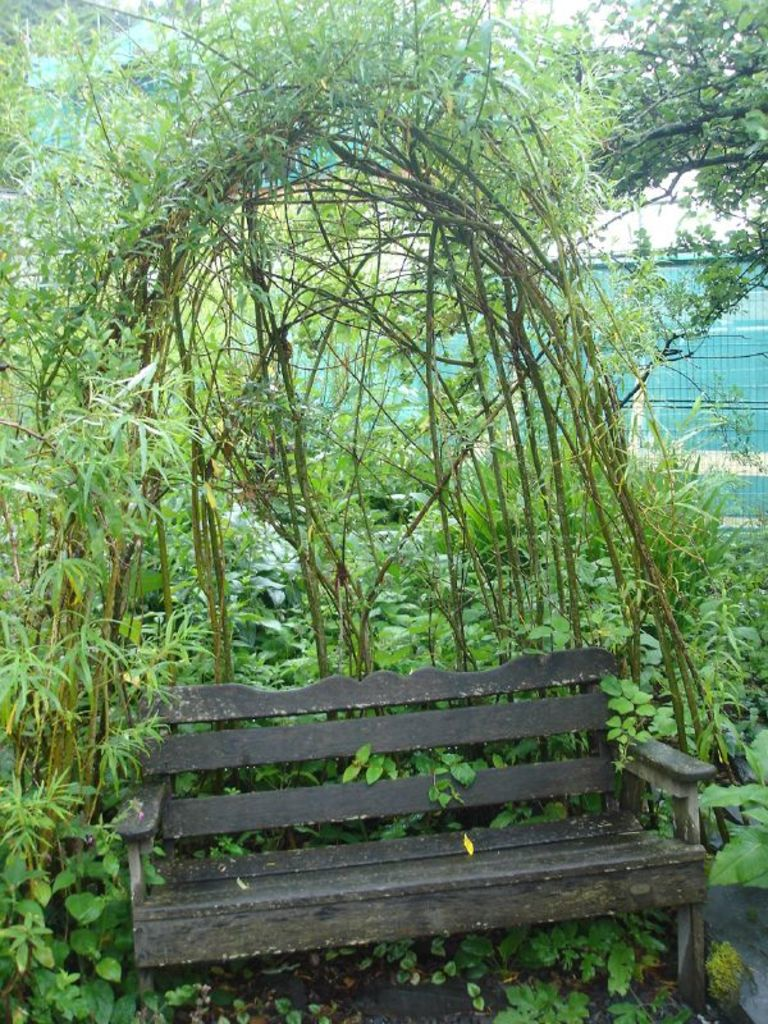Tree: (0, 0, 766, 816)
